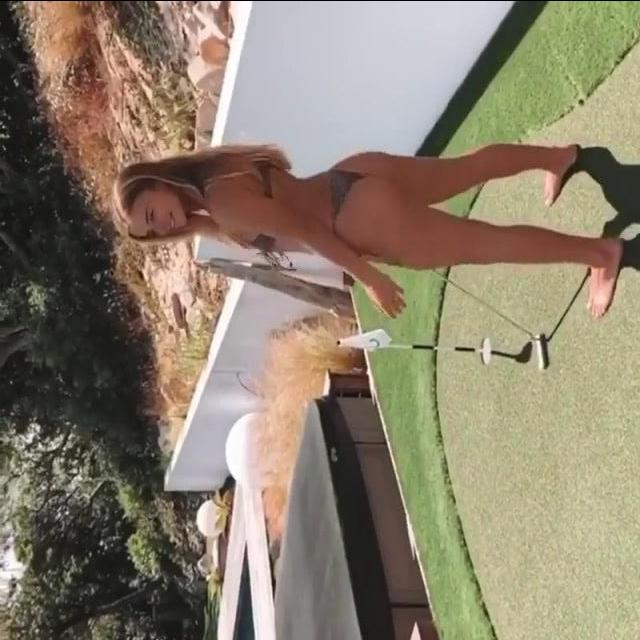golf club-handle: (423, 268, 552, 367)
golf club-head: (534, 336, 550, 367)
